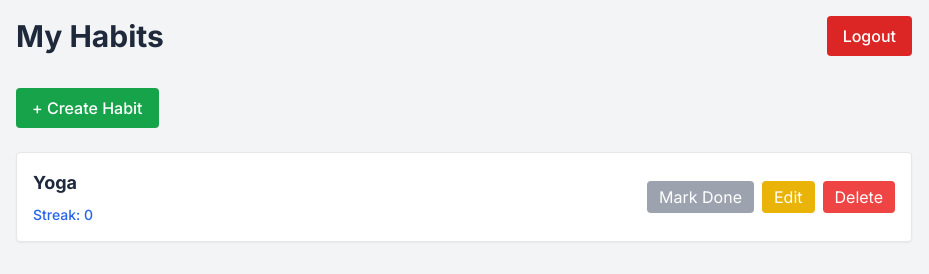
Test case: habit form › deletes a habit only after explicit confirmation
Click the button with test id "habit-delete-yoga": point(859, 197) [822, 181, 895, 213]
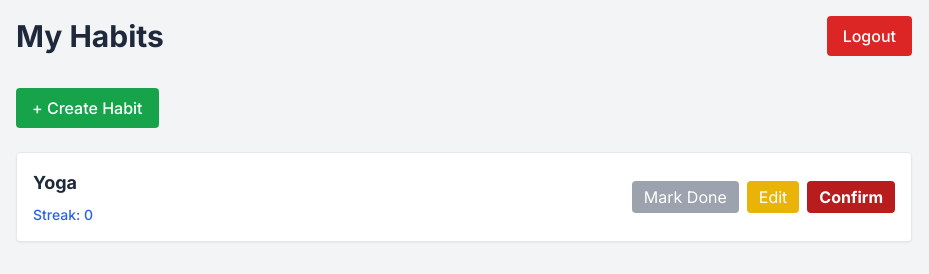
Expected: the button with test id "confirm-delete-button" is shown
Click the button with test id "confirm-delete-button": point(851, 197) [807, 181, 895, 213]
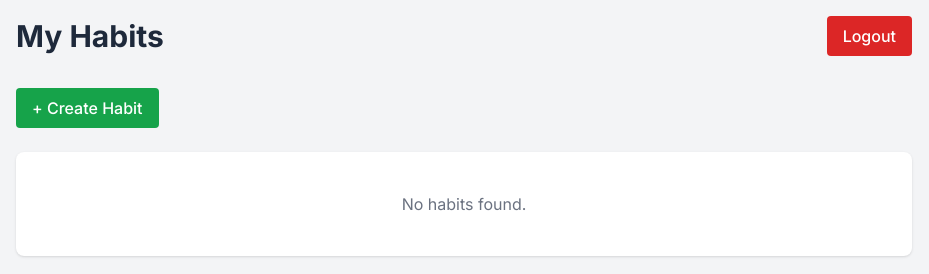
Expected: the element with test id "habit-card-yoga" is gone
